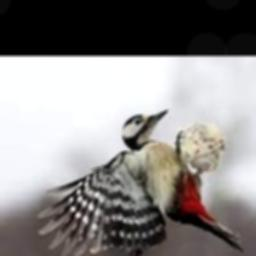Woodpecker: (37, 109, 244, 256)
